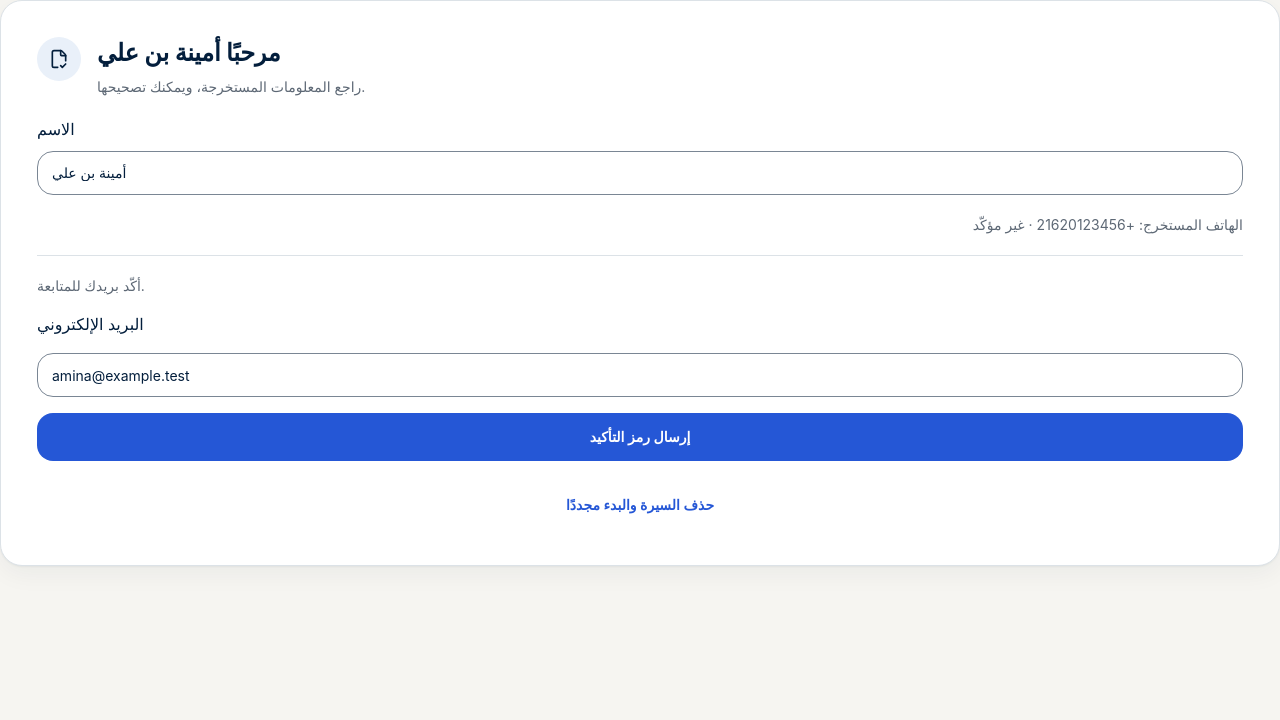
Scenario: guest CV onboarding › lets the owner delete private draft data
This screenshot has width=1280, height=720.
Step 1. Click the button "حذف السيرة والبدء مجددًا" → (640, 505), box x1=37 y1=481 x2=1243 y2=529
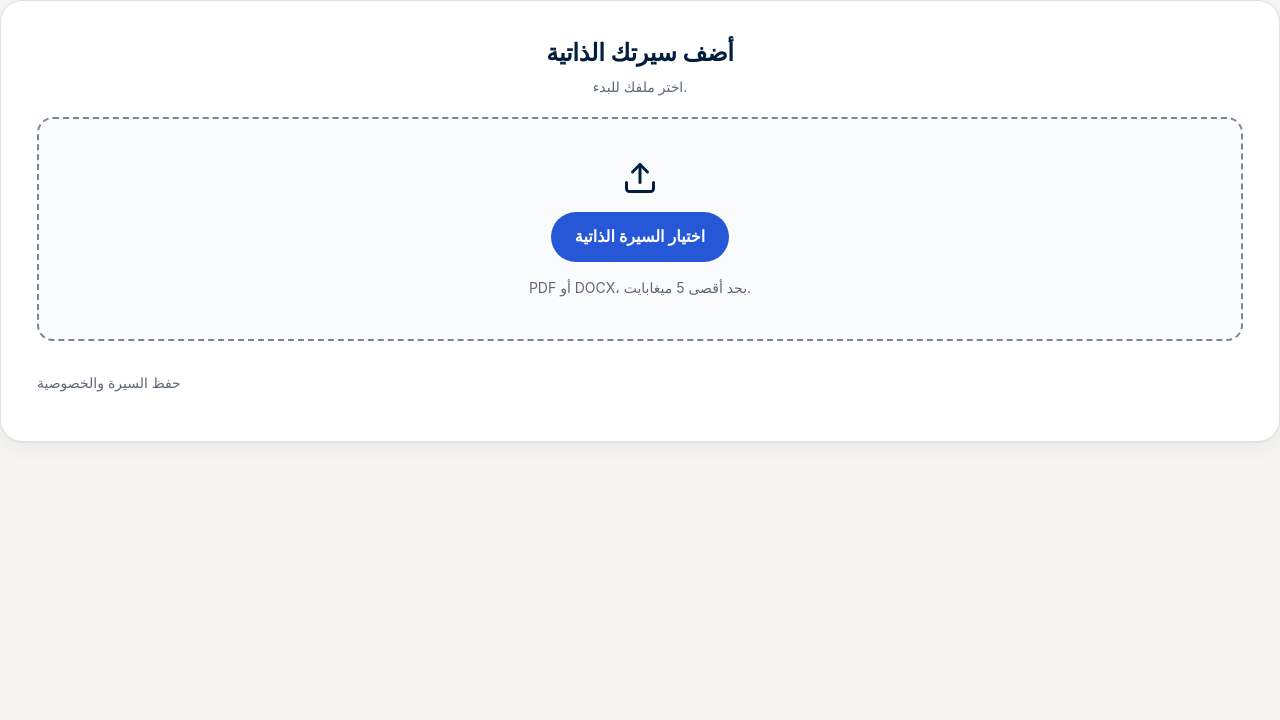
Expected: the file field labelled "اختيار السيرة الذاتية" is shown, x1=551 y1=212 x2=729 y2=262
